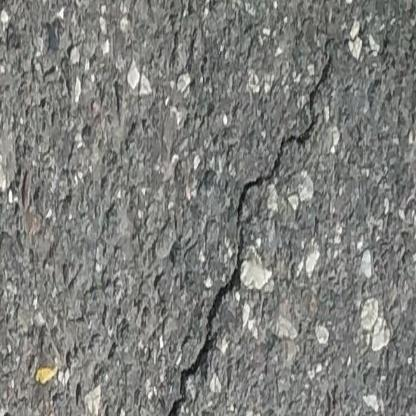Cracks: (155, 24, 371, 416)
